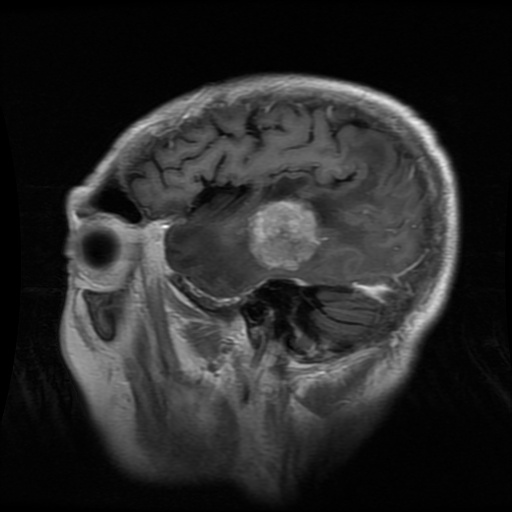meningioma: (249, 197, 322, 270)
